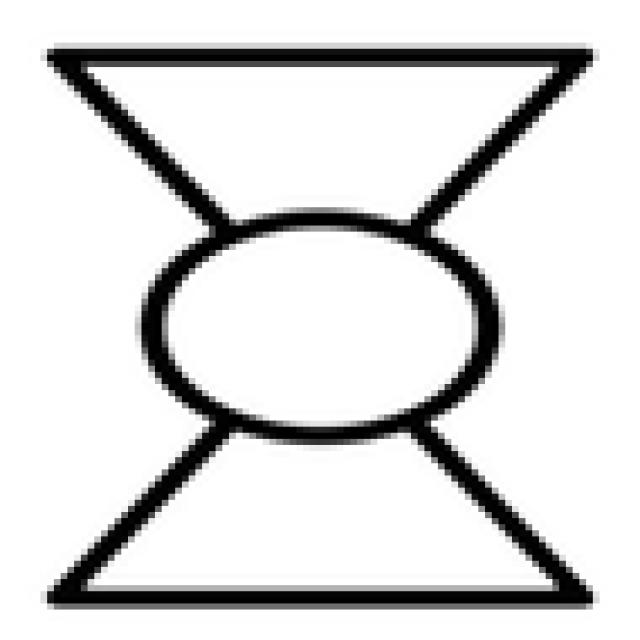ball valve: (47, 52, 594, 603)
